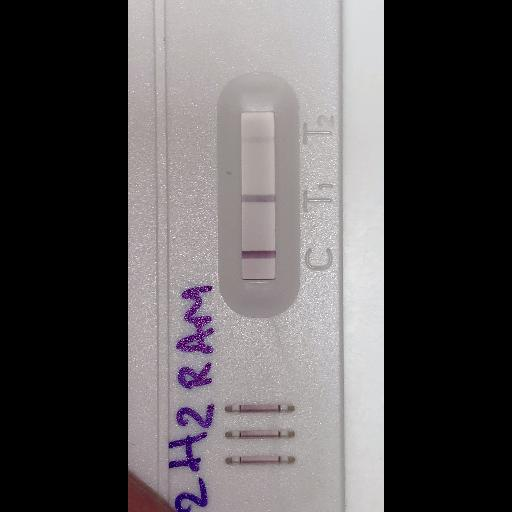Pos: (127, 0, 347, 511)
